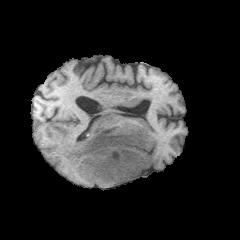glioma: (56, 126, 155, 186)
